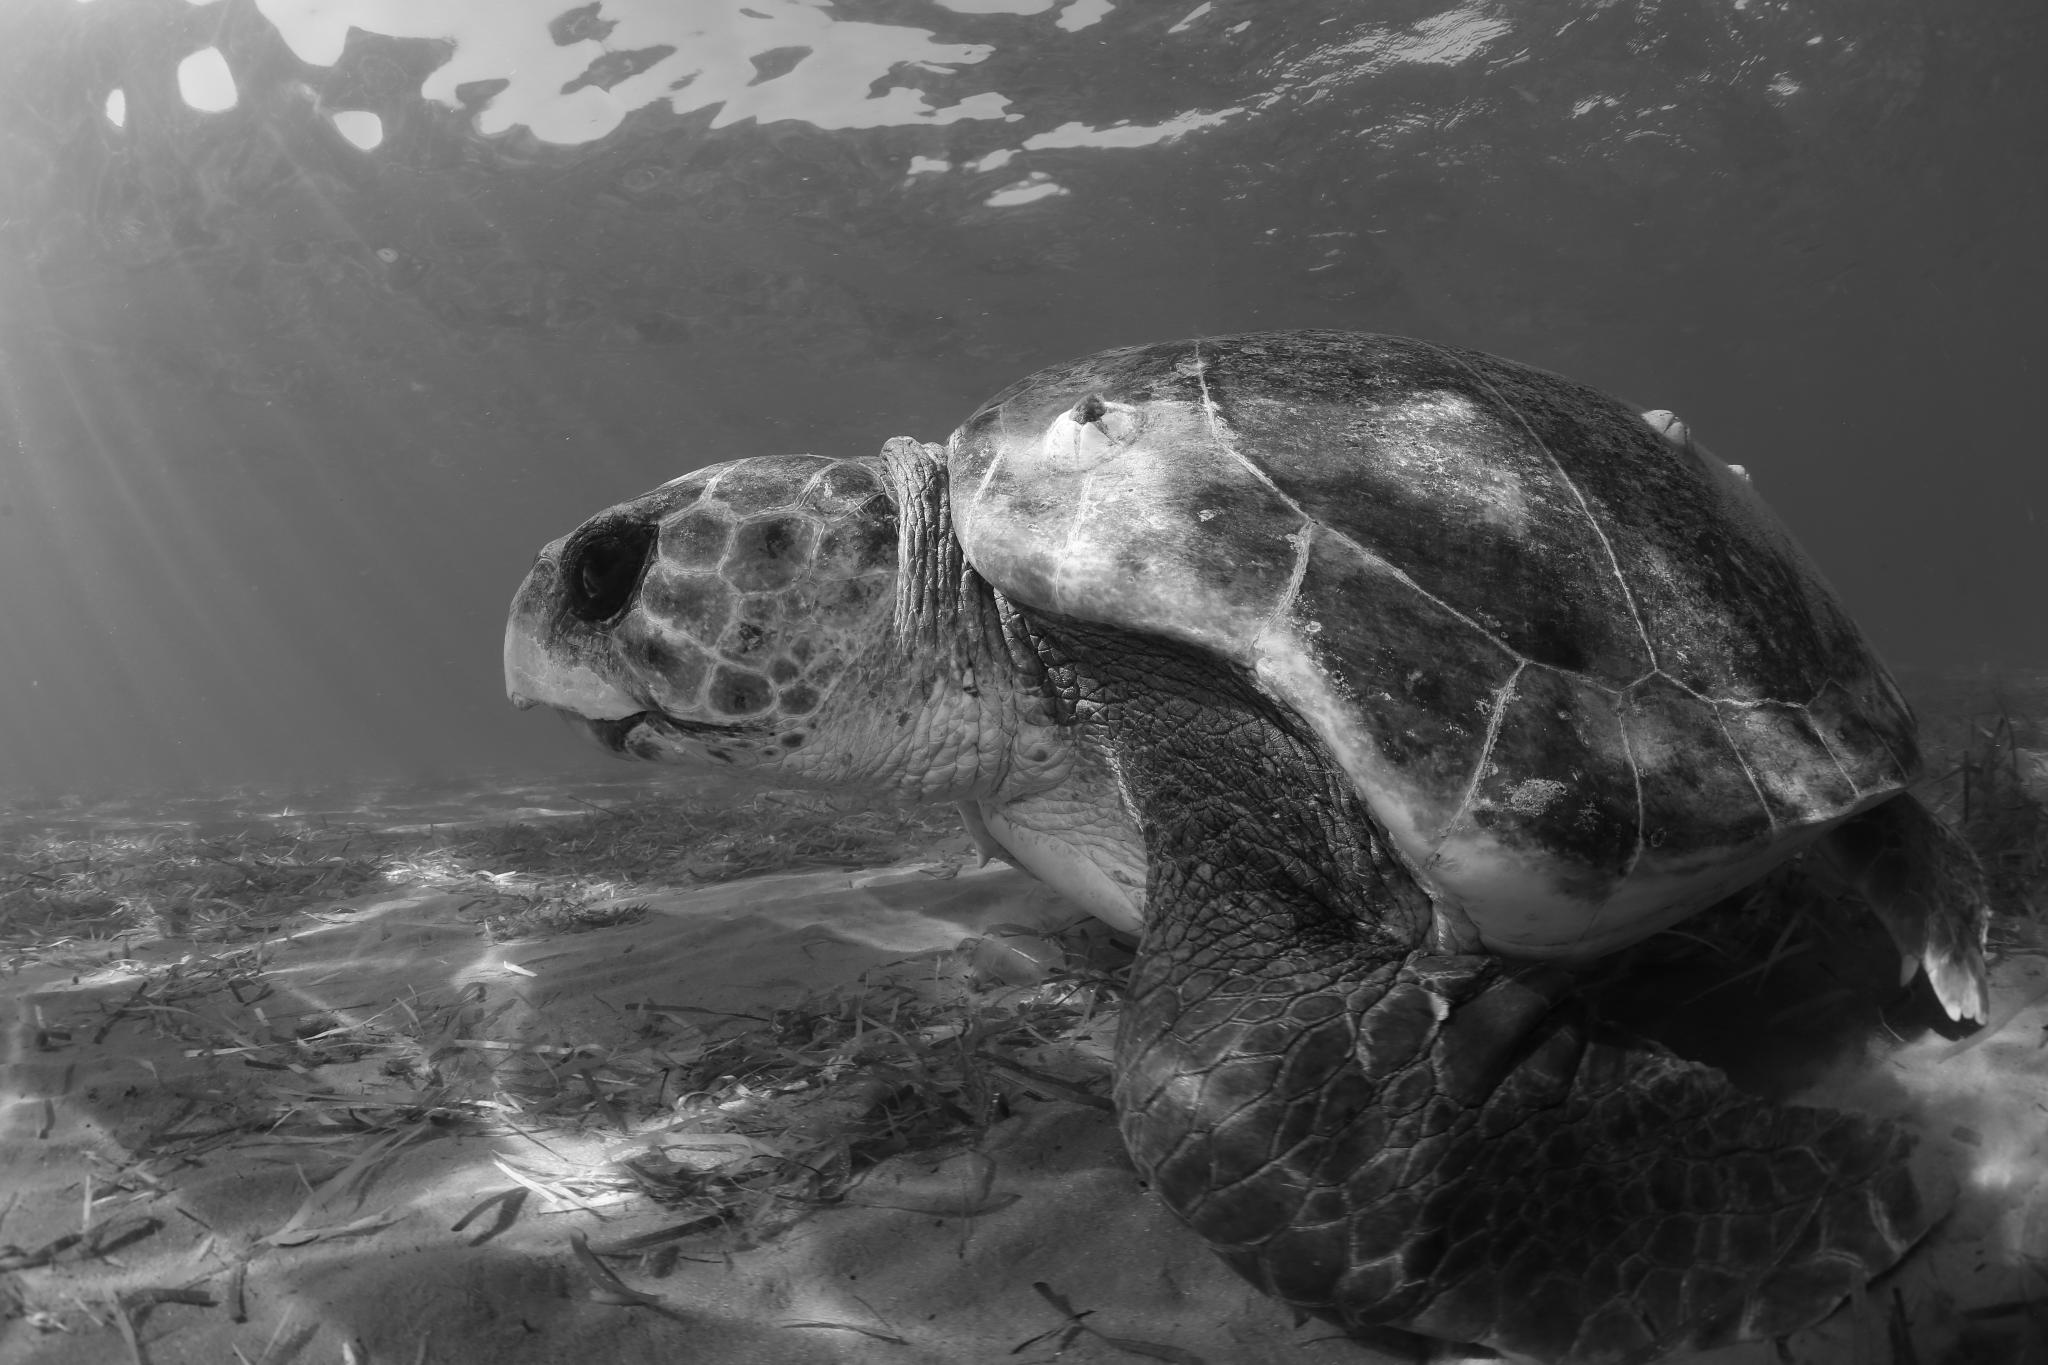Head: (505, 439, 1014, 807)
